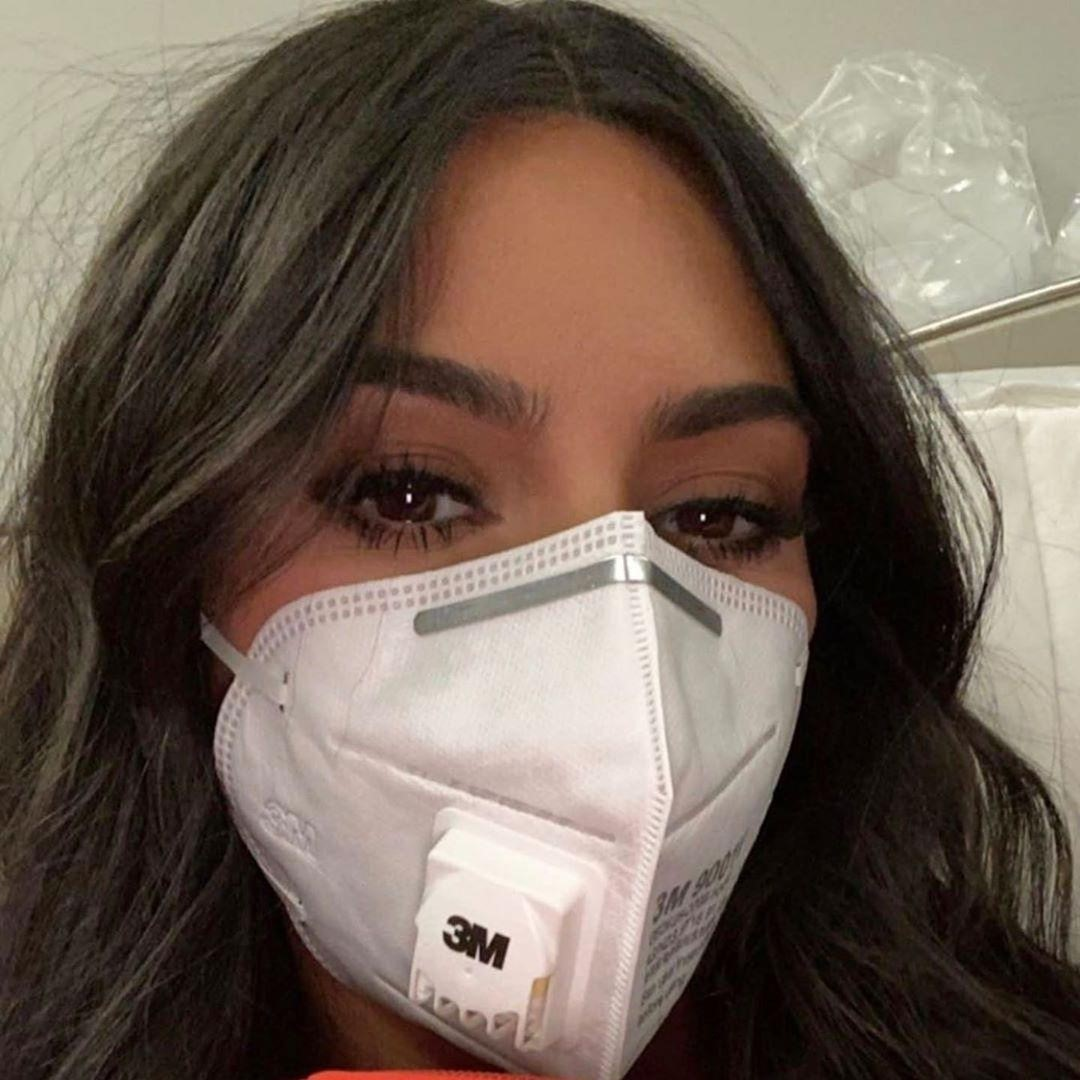face_with_mask: (157, 62, 837, 1079)
